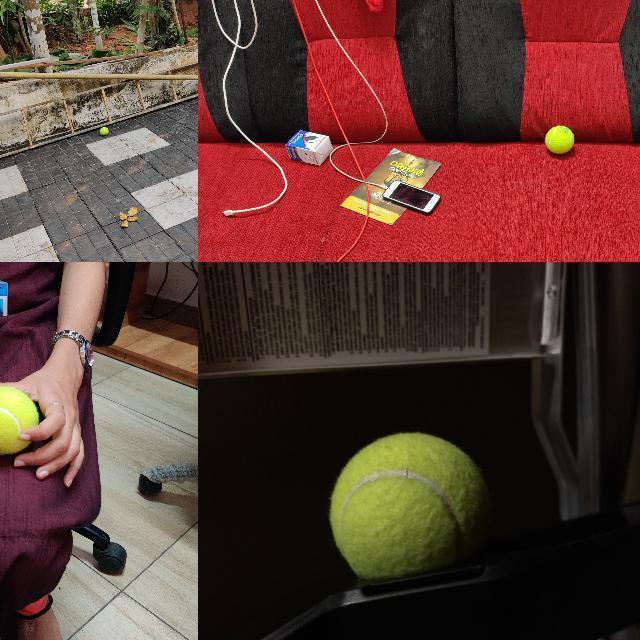tennis-ball: (327, 433, 498, 560), (0, 386, 39, 454), (545, 125, 574, 153), (100, 127, 109, 136)
